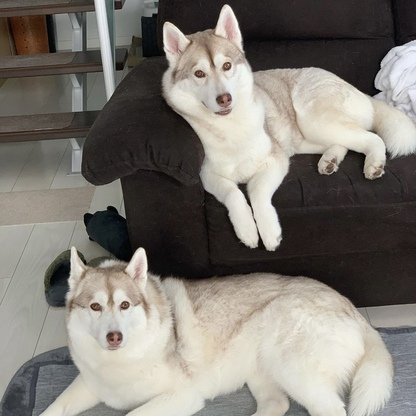husky: (153, 1, 416, 255), (34, 243, 399, 416)
